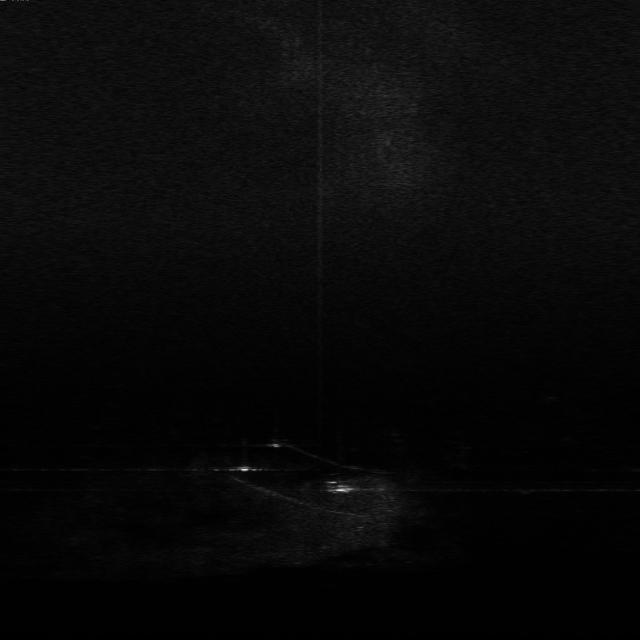rov: (327, 477, 359, 495)
